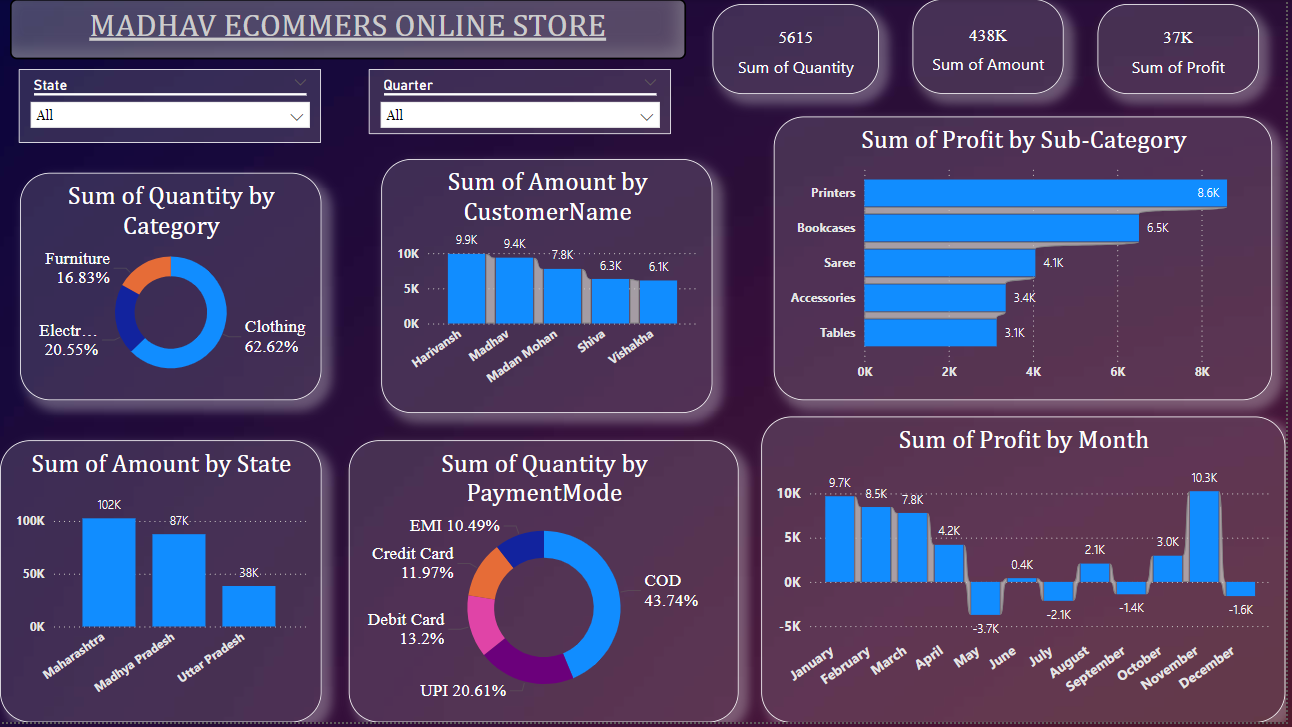

The page's visual inventory and layout, read from the dashboard file:
{"tool":"powerbi","page":{"name":"Page 1","canvas":[1280,720],"ordinal":0},"visuals":[{"type":"textbox","box":[10,0,673,59.7],"z":0},{"type":"columnChart","fields":{"Category":["Orders.Order Date.Variation.Date Hierarchy.Month"],"Y":["Details.Profit"]},"box":[757.6,415.5,521.2,304.8],"z":1000},{"type":"barChart","fields":{"Category":["Details.Sub-Category"],"Y":["Details.Profit"]},"box":[770,116.9,496.3,282.4],"z":2000},{"type":"donutChart","fields":{"Category":["Details.Category"],"Y":["Details.Quantity"]},"box":[19.9,172.9,299.8,226.4],"z":3000},{"type":"donutChart","fields":{"Category":["Details.PaymentMode"],"Y":["Details.Quantity"]},"box":[347.1,439.1,388.1,281.1],"z":4000},{"type":"card","fields":{"Values":["Details.Quantity"]},"box":[709.1,5,165.4,89.6],"z":5000},{"type":"card","fields":{"Values":["Details.Amount"]},"box":[908.1,0,150.5,94.5],"z":6000},{"type":"card","fields":{"Values":["Details.Profit"]},"box":[1092.2,5,160.5,89.6],"z":7000},{"type":"clusteredColumnChart","fields":{"Category":["Orders.State"],"Y":["Details.Amount"]},"box":[0,439.1,319.7,281.1],"z":8000},{"type":"columnChart","fields":{"Category":["Orders.CustomerName"],"Y":["Details.Amount"]},"box":[379.4,159.2,329.6,252.5],"z":9000},{"type":"slicer","fields":{"Values":["Orders.State"]},"box":[18.7,69.7,301,73.4],"z":10000},{"type":"slicer","fields":{"Values":["Orders.Order Date.Variation.Date Hierarchy.Quarter"]},"box":[367,69.7,301,64.7],"z":11000}]}

Visuals, with their boxes in screenshot pixels (x1, y1, x2, y2), scaled from the page's 1280x720 canvas onto the 1292x727 screenshot:
textbox: bbox=(10, 0, 689, 60)
columnChart - Orders.Order Date.Variation.Date Hierarchy.Month x Details.Profit: bbox=(765, 420, 1291, 726)
barChart - Details.Sub-Category x Details.Profit: bbox=(777, 118, 1278, 403)
donutChart - Details.Category x Details.Quantity: bbox=(20, 175, 323, 403)
donutChart - Details.PaymentMode x Details.Quantity: bbox=(350, 443, 742, 726)
card - Details.Quantity: bbox=(716, 5, 883, 96)
card - Details.Amount: bbox=(917, 0, 1069, 95)
card - Details.Profit: bbox=(1102, 5, 1264, 96)
clusteredColumnChart - Orders.State x Details.Amount: bbox=(0, 443, 323, 726)
columnChart - Orders.CustomerName x Details.Amount: bbox=(383, 161, 716, 416)
slicer - Orders.State: bbox=(19, 70, 323, 144)
slicer - Orders.Order Date.Variation.Date Hierarchy.Quarter: bbox=(370, 70, 674, 136)
